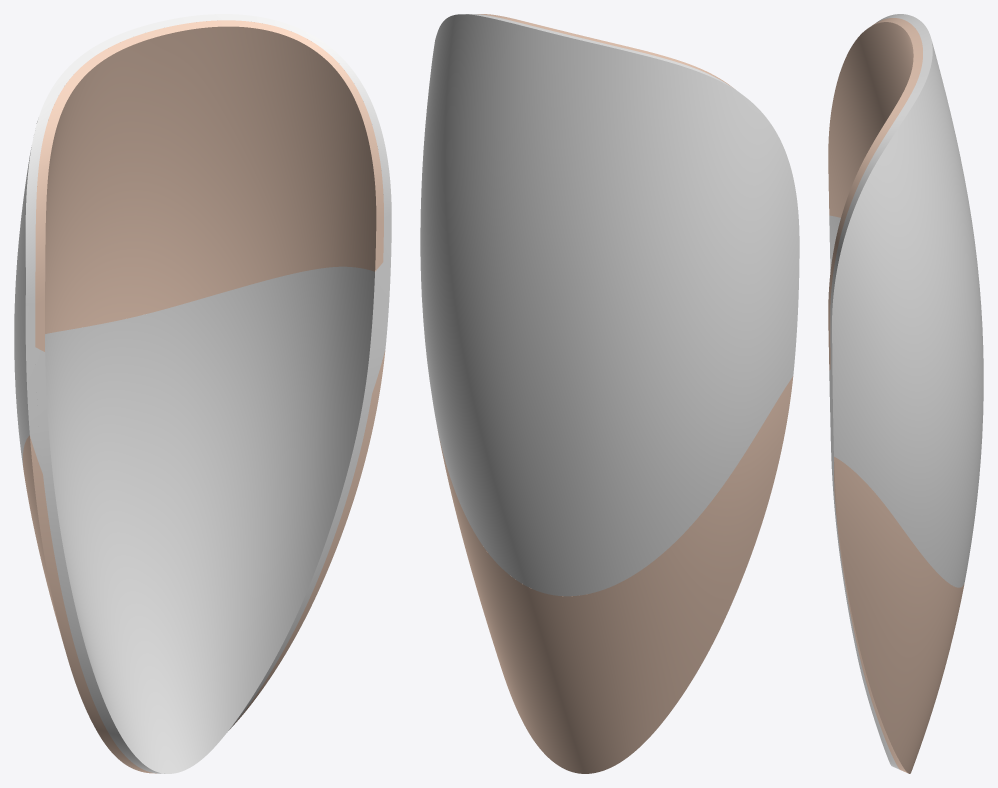
File: s1probe.obj
The picture shows the model from 3 angles, left to right: view 1: azimuth 30°, elevation 25°; view 2: azimuth 150°, elevation 25°; view 3: azimuth 270°, elevation 25°; orthographic projection. The views are drawn at different scales.
Bounding box in the file's own units: 12.39 × 23.96 × 4.71.
